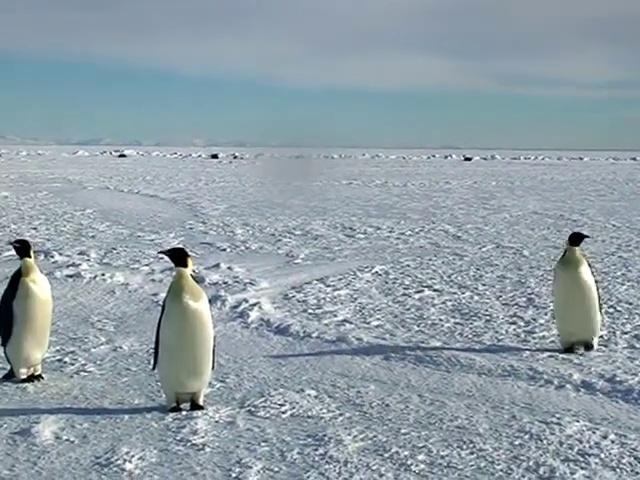animal: (154, 249, 216, 413)
